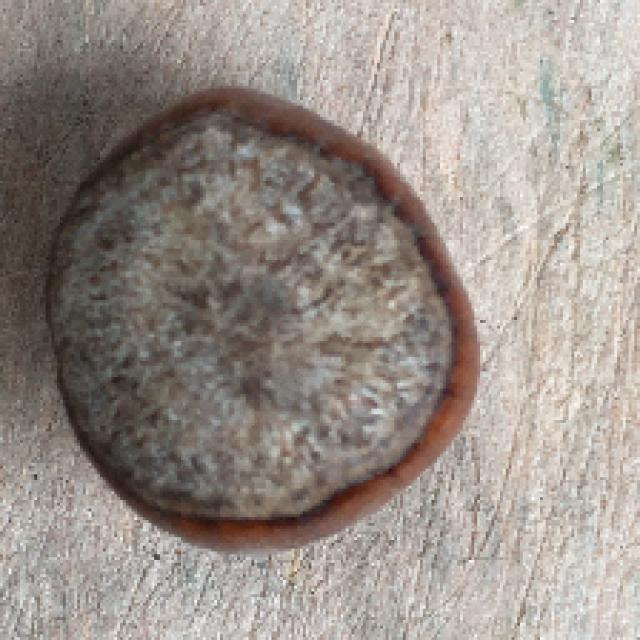QualityHazelnut: (40, 85, 479, 560)
